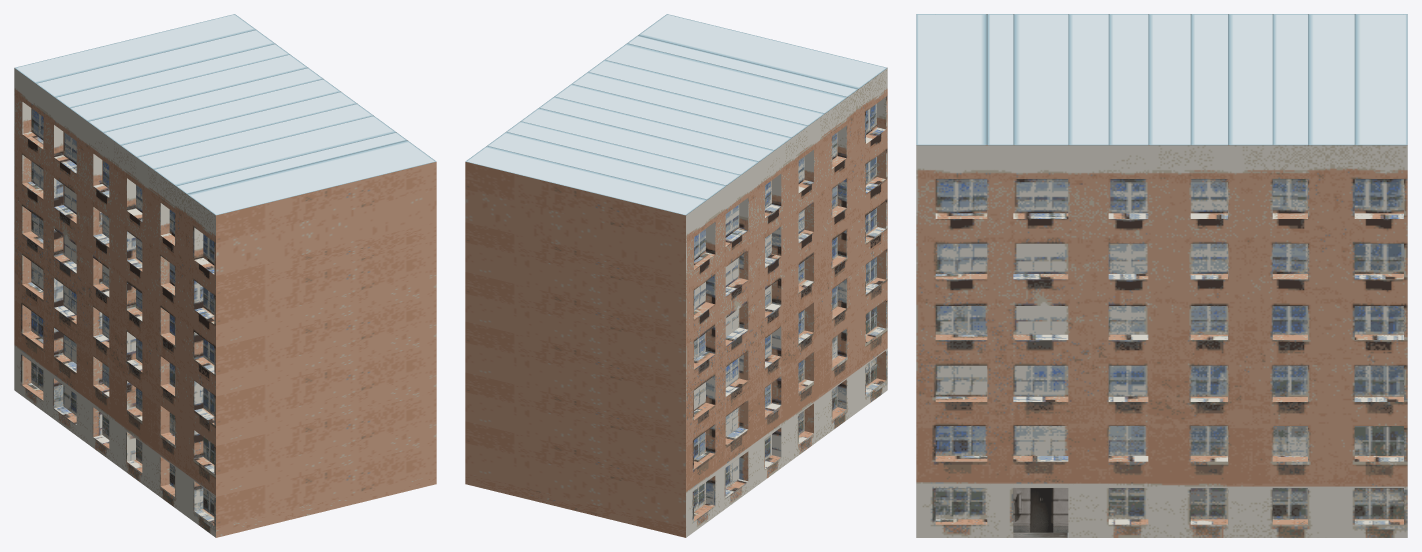
File: orangeapartment.fbx
3 renders of one model, left to right at view 1: azimuth 30°, elevation 25°; view 2: azimuth 150°, elevation 25°; view 3: azimuth 270°, elevation 25°, orthographic. The views are drawn at different scales.
Parts seen in each view (by area): view 1: mesh, mesh_1; view 2: mesh, mesh_1; view 3: mesh.
Part boxes in pixels (bbox=[...]): mesh: bbox=[14, 14, 436, 537]; mesh_1: bbox=[14, 68, 215, 537]; mesh: bbox=[465, 14, 887, 537]; mesh_1: bbox=[686, 68, 887, 537]; mesh: bbox=[916, 14, 1407, 537].
Bounding box in the file's own units: 75 × 105 × 119.
Materials: 1 (1 with a texture image).
